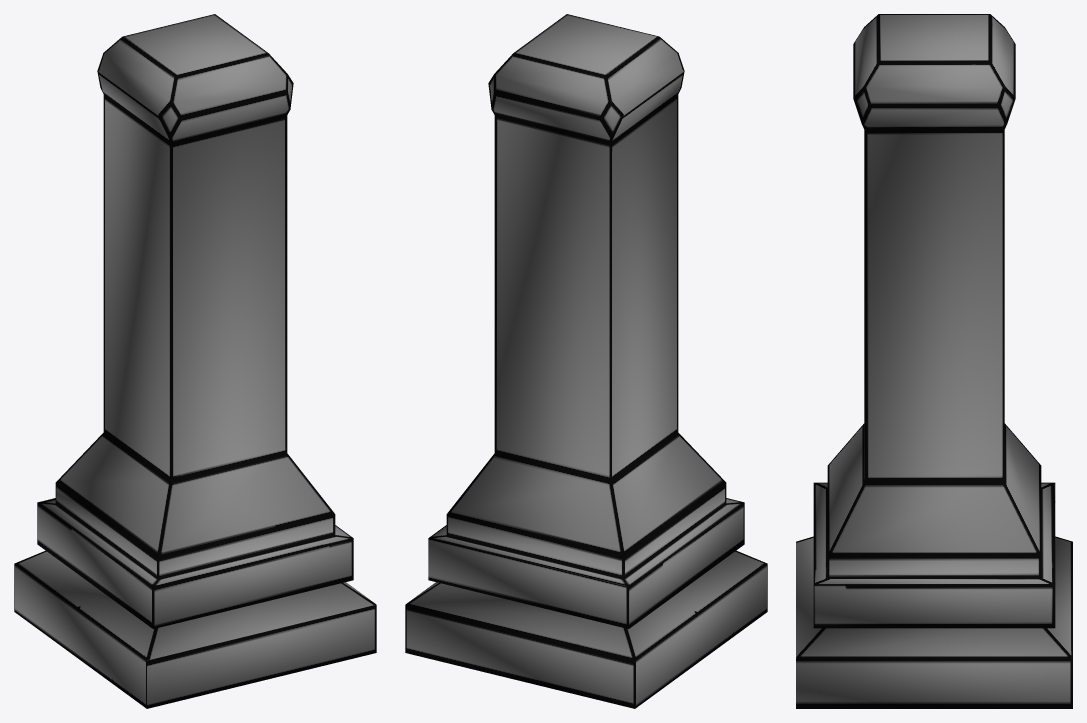
The model's file is RuinsPillar.fbx.
The picture shows the model from 3 angles, left to right: view 1: azimuth 30°, elevation 25°; view 2: azimuth 150°, elevation 25°; view 3: azimuth 270°, elevation 25°; orthographic projection. The views are drawn at different scales.
Visible parts, largest first — view 1: Pillars; view 2: Pillars; view 3: Pillars.
Boxes of the visible parts, x1,y1,x2,y2 form: Pillars: [14, 14, 376, 708]; Pillars: [405, 14, 767, 708]; Pillars: [796, 14, 1072, 708].
Size of the model in its own units: 1.44 by 1.44 by 3.52.
Materials: 1 (1 with a texture image).
